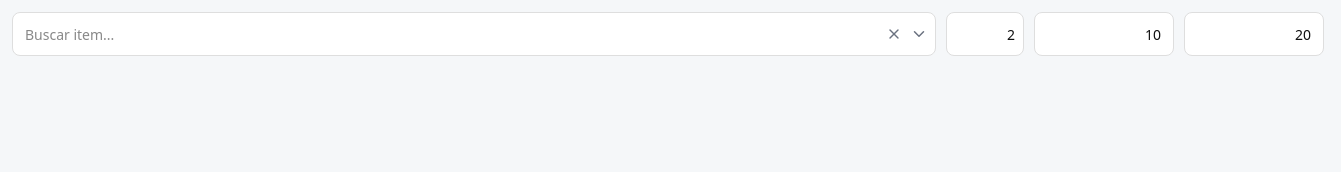
Scenario: OperacionLineaEditor › Al actualizar la cantidad, se actualiza el total manteniendo el precio unitario
Replace the text in the number field with test id "operaciones-line-0-cantidad" with "3" at (985, 34), box [946,12,1024,56]
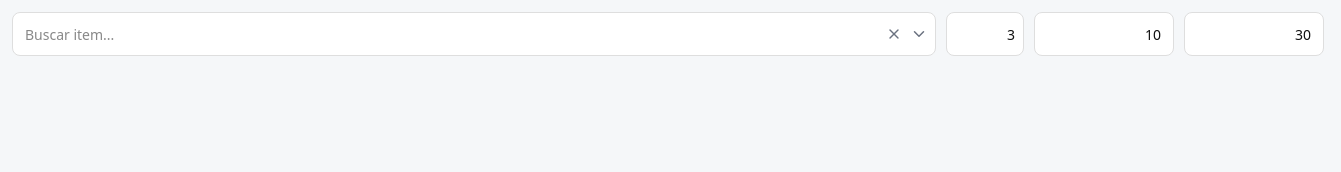
Expected: the number field with test id "operaciones-line-0-unitario" holds "10", [1034,12,1174,56]
Result: the number field with test id "operaciones-line-0-total" holds "30" at [1184,12,1324,56]
